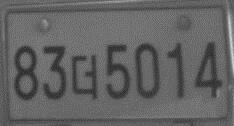0: (134, 41, 161, 98)
1: (163, 43, 190, 98)
3: (40, 44, 68, 100)
4: (193, 42, 224, 99)
5: (103, 42, 131, 100)
8: (13, 45, 38, 100)
더: (68, 53, 99, 100)
